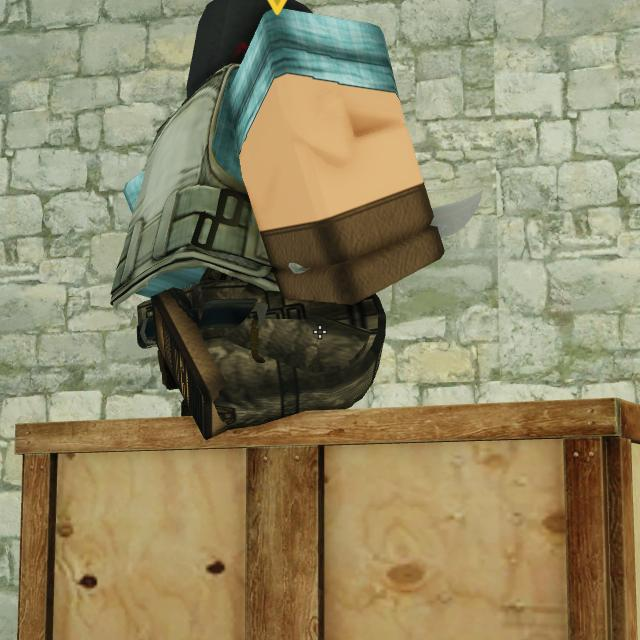Head: (110, 0, 443, 438), (188, 2, 309, 88)
